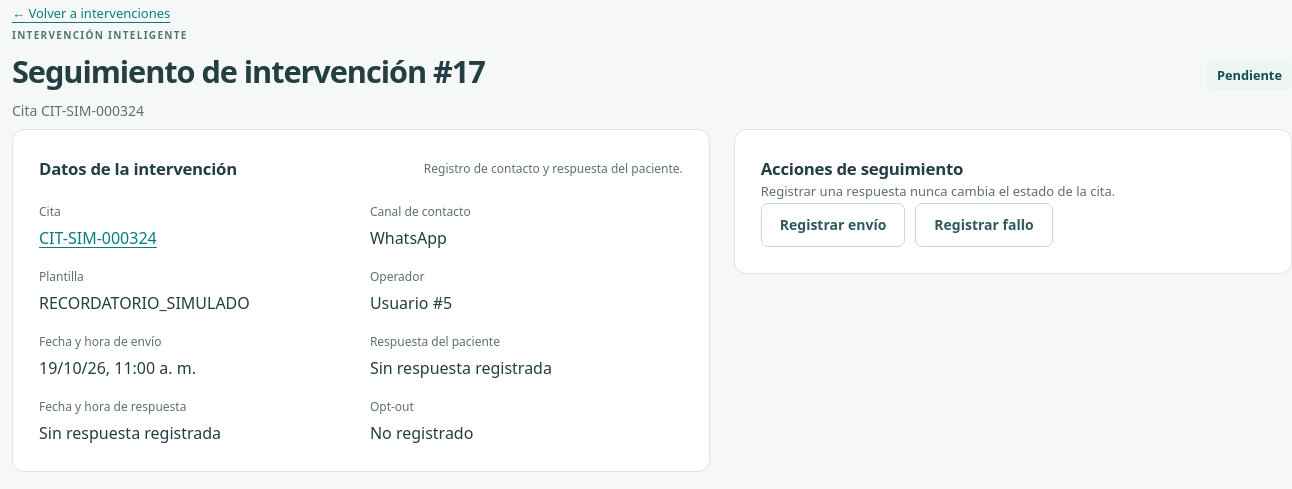
Registro explícito del envío (RF-059, RF-061) › evita el doble envío y bloquea las demás acciones mientras espera
Double-click the button "Registrar envío" at [833, 225], box [761,203,905,247]
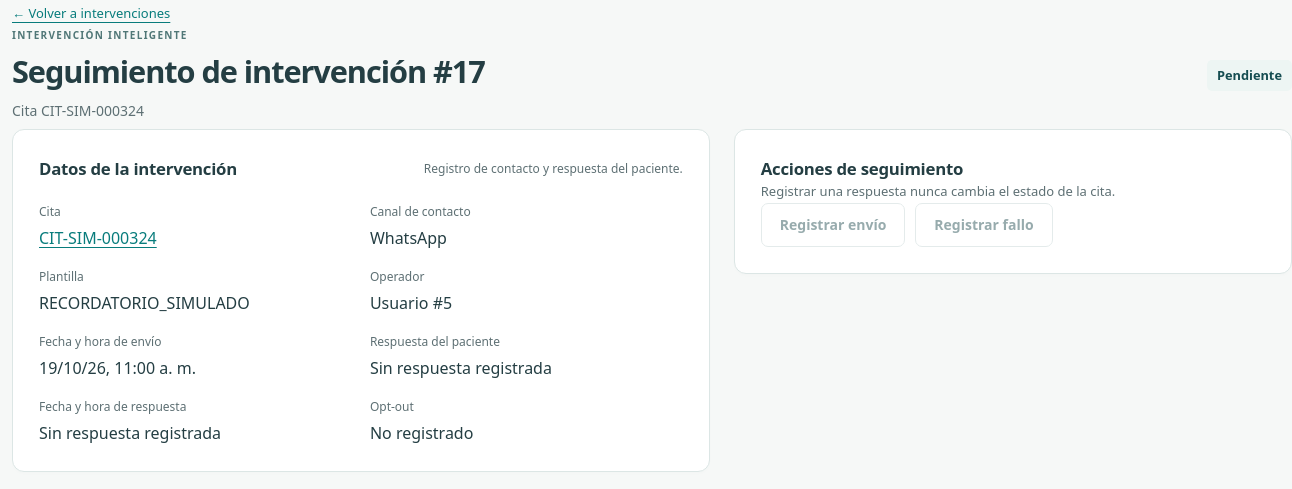
Check: the button "Registrar envío" is disabled, box [761,203,905,247]
Check: the button "Registrar fallo" is disabled, box [915,203,1053,247]
